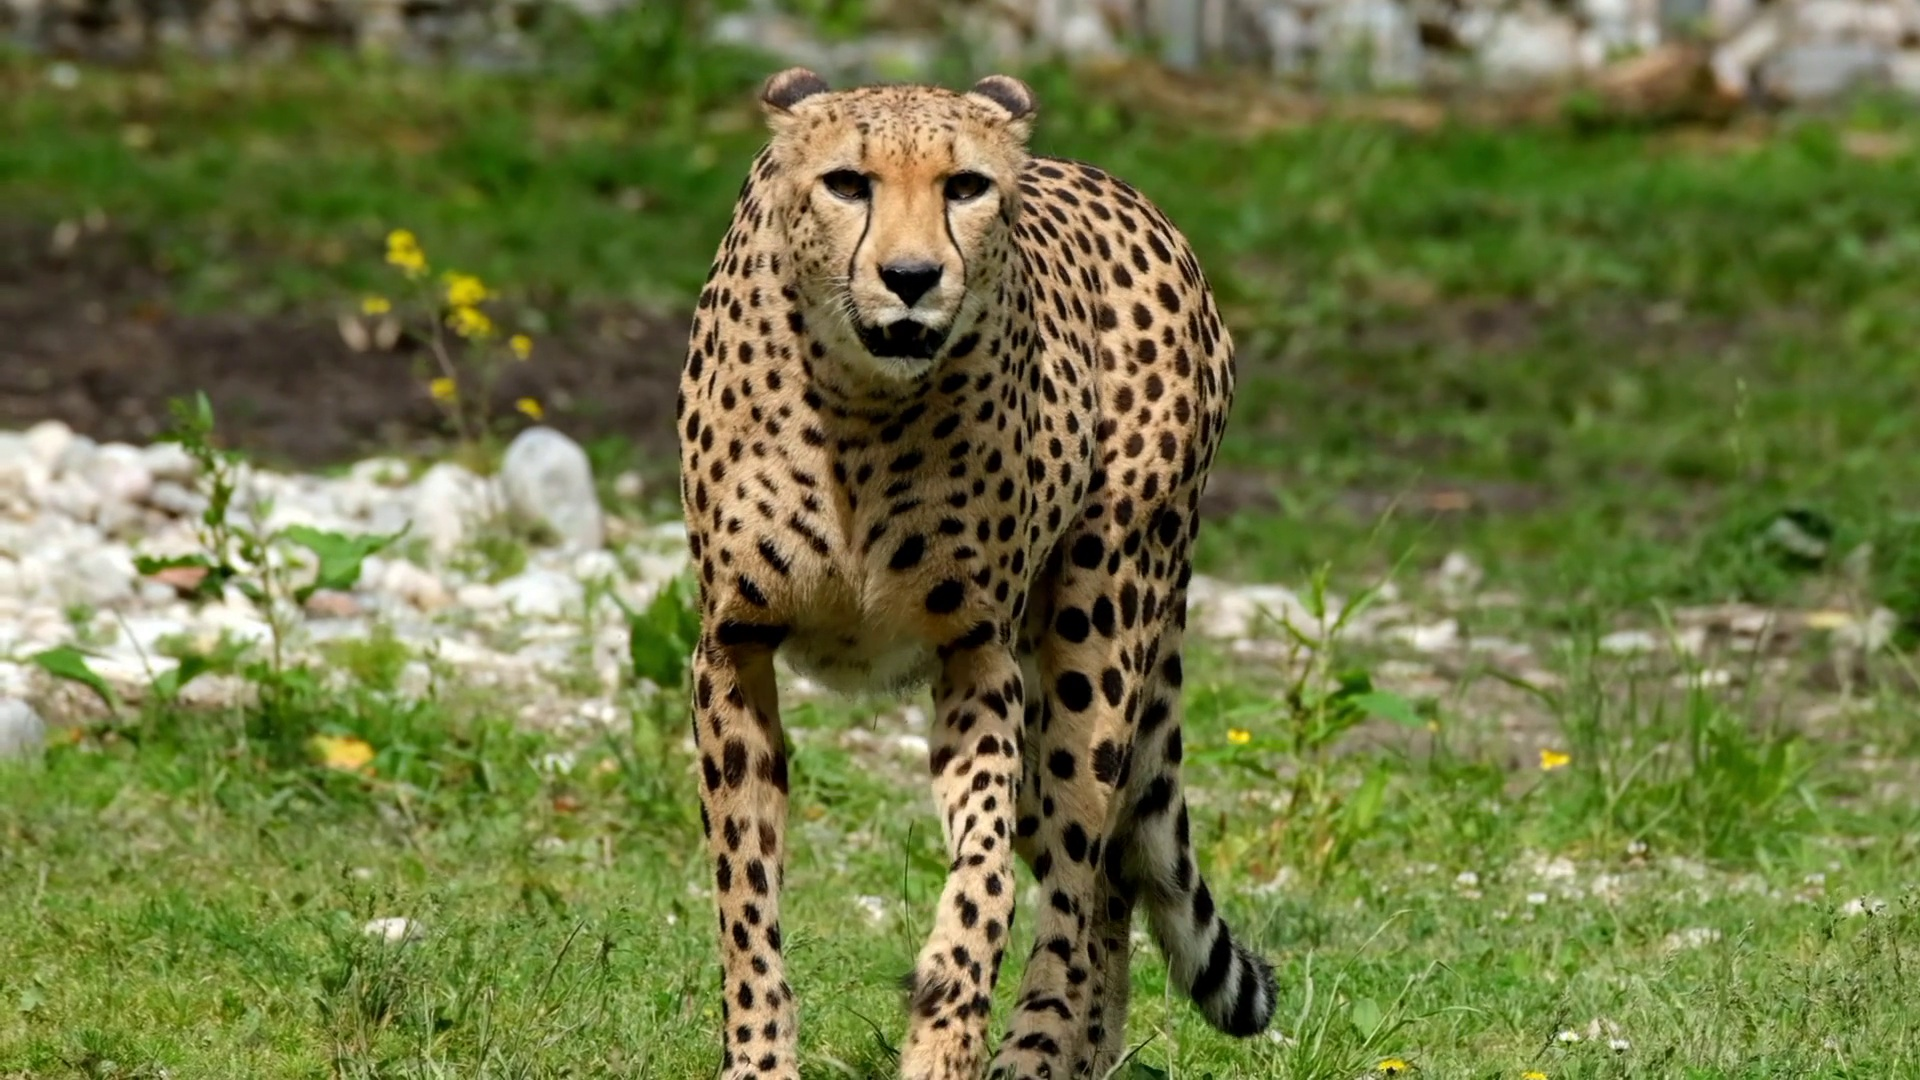Cheetah: (665, 63, 1286, 1080)
